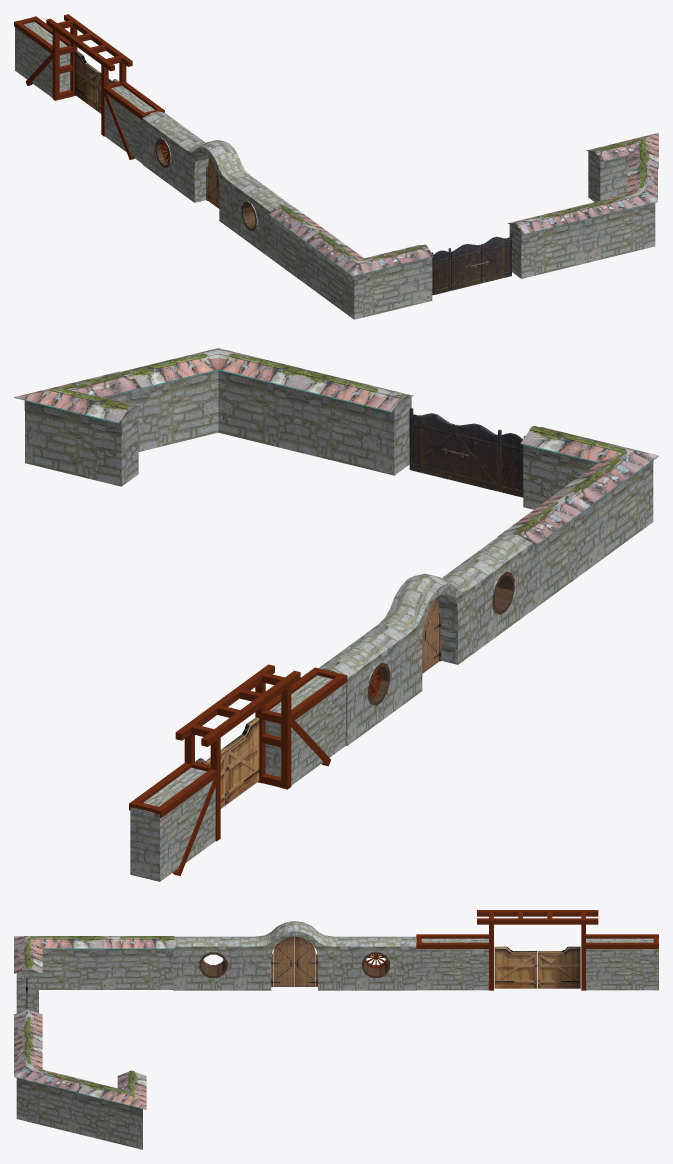
File: StoneWallType1_AllModules.fbx
3 renders of one model, top to bottom at view 1: azimuth 30°, elevation 25°; view 2: azimuth 150°, elevation 25°; view 3: azimuth 270°, elevation 25°, orthographic. The views are drawn at different scales.
Parts seen in each view (by area): view 1: Stone, StoneWallT1Corner90, StoneWallT1Corner120, StoneWallT1StraigtLeft, StoneWallT1Corner60, StoneWallT1StraigtRight1, Stone1, Stone2, WoodGate3_BigGate_LeftHalf, WoodGate3_BigGate_RightHalf, WoodGate2_LeftHalfGate, WoodGate3_SmallGate (+4 smaller); view 2: Stone, StoneWallT1Corner120, StoneWallT1Corner90, StoneWallT1Corner60, StoneWallT1StraigtLeft, Stone1, StoneWallT1StraigtRight1, Stone2, WoodGate3_BigGate_LeftHalf, WoodGate3_BigGate_RightHalf, WoodGate2_RightHalfGate, WoodGate3_SmallGate (+5 smaller); view 3: Stone, StoneWallT1Corner90, StoneWallT1Corner120, StoneWallT1Corner60, StoneWallT1StraigtRight1, Stone1, Stone2, WoodGate2_RightHalfGate, WoodGate2_LeftHalfGate, WoodGate1_LeftHalfGate, WoodGate1_RightHalfGate, StoneWallT1StraigtLeft (+4 smaller).
Part boxes in pixels (x1=…): Stone: x1=142, y1=111, x2=293, y2=258; StoneWallT1Corner90: x1=307, y1=233, x2=433, y2=319; StoneWallT1Corner120: x1=575, y1=162, x2=657, y2=262; StoneWallT1StraigtLeft: x1=507, y1=206, x2=589, y2=278; StoneWallT1Corner60: x1=586, y1=133, x2=658, y2=201; StoneWallT1StraigtRight1: x1=268, y1=204, x2=332, y2=286; Stone1: x1=15, y1=22, x2=70, y2=97; Stone2: x1=105, y1=85, x2=154, y2=163; WoodGate3_BigGate_LeftHalf: x1=451, y1=244, x2=481, y2=290; WoodGate3_BigGate_RightHalf: x1=481, y1=236, x2=509, y2=283; WoodGate2_LeftHalfGate: x1=74, y1=50, x2=99, y2=110; WoodGate3_SmallGate: x1=433, y1=250, x2=448, y2=294; Stone: x1=319, y1=532, x2=533, y2=745; StoneWallT1Corner120: x1=122, y1=348, x2=315, y2=451; StoneWallT1Corner90: x1=520, y1=426, x2=658, y2=569; StoneWallT1Corner60: x1=14, y1=371, x2=140, y2=486; StoneWallT1StraigtLeft: x1=295, y1=371, x2=413, y2=475; Stone1: x1=130, y1=767, x2=215, y2=881; StoneWallT1StraigtRight1: x1=498, y1=491, x2=591, y2=609; Stone2: x1=265, y1=675, x2=345, y2=785; WoodGate3_BigGate_LeftHalf: x1=454, y1=423, x2=497, y2=491; WoodGate3_BigGate_RightHalf: x1=412, y1=413, x2=454, y2=480; WoodGate2_RightHalfGate: x1=223, y1=717, x2=259, y2=804; WoodGate3_SmallGate: x1=501, y1=433, x2=523, y2=497; Stone: x1=173, y1=921, x2=416, y2=990; StoneWallT1Corner90: x1=14, y1=936, x2=101, y2=1012; StoneWallT1Corner120: x1=14, y1=1039, x2=92, y2=1134; StoneWallT1Corner60: x1=78, y1=1070, x2=146, y2=1149; StoneWallT1StraigtRight1: x1=101, y1=936, x2=174, y2=989; Stone1: x1=586, y1=938, x2=658, y2=990; Stone2: x1=416, y1=938, x2=488, y2=990; WoodGate2_RightHalfGate: x1=494, y1=946, x2=537, y2=988; WoodGate2_LeftHalfGate: x1=538, y1=946, x2=580, y2=988; WoodGate1_LeftHalfGate: x1=294, y1=936, x2=315, y2=986; WoodGate1_RightHalfGate: x1=273, y1=936, x2=294, y2=986; StoneWallT1StraigtLeft: x1=14, y1=1009, x2=42, y2=1044.
Size of the model in its own units: 1687 by 344 by 2656.
6 materials, 5 textured.
